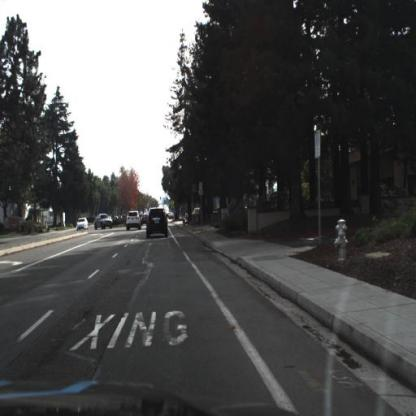car: (147, 208, 170, 239), (95, 212, 114, 233), (126, 210, 143, 233), (76, 216, 91, 232)
